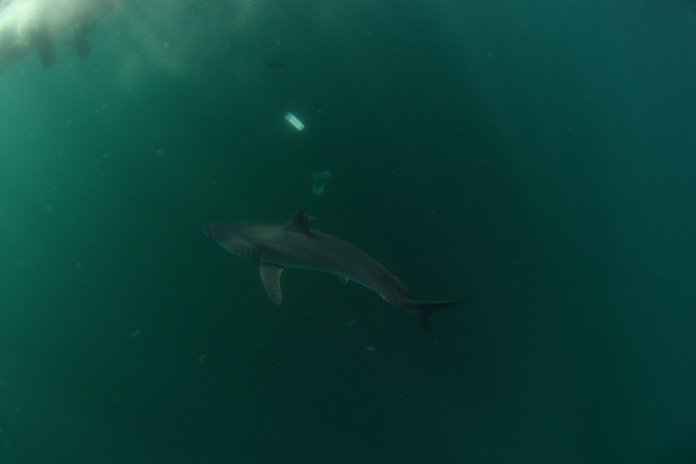Mako: (167, 199, 479, 345)
